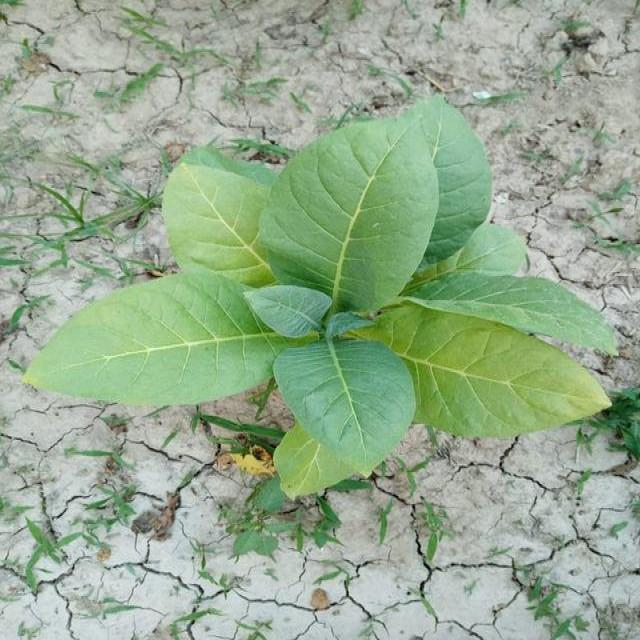crop: (38, 100, 611, 489)
